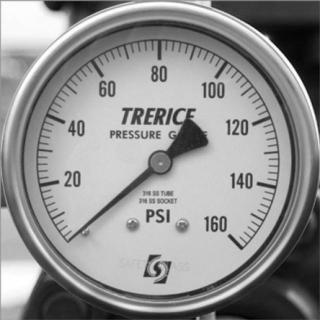gauge: (0, 0, 320, 320), (208, 218, 250, 252), (57, 221, 89, 253), (147, 149, 174, 176), (62, 232, 78, 248)
